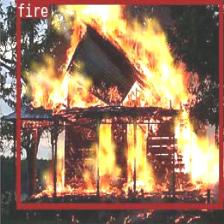fire: (16, 0, 222, 207)
